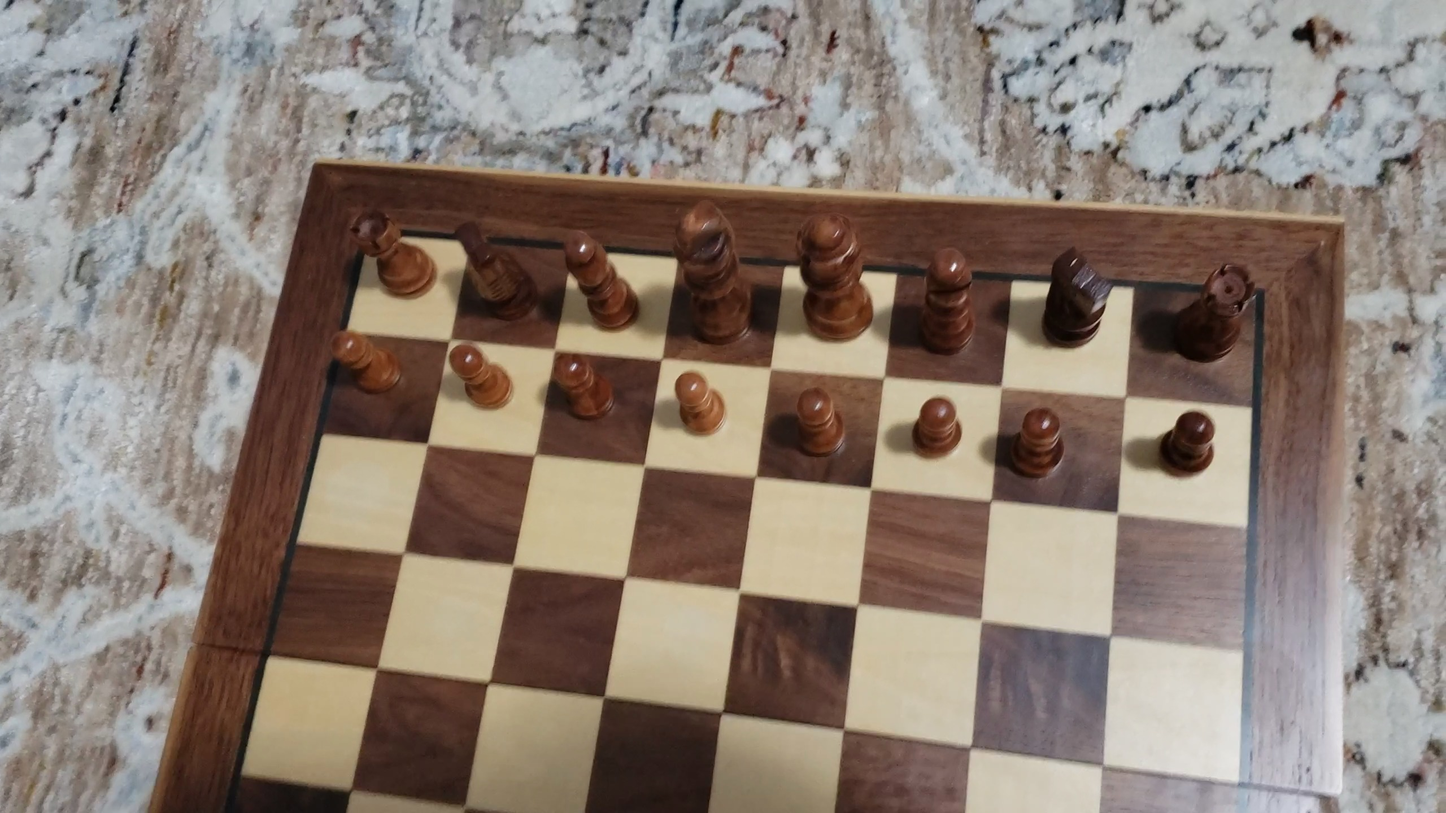black-bishop: (561, 225, 638, 333), (919, 243, 975, 356)
black-king: (673, 194, 756, 347)
black-knight: (454, 216, 539, 322), (1039, 243, 1112, 348)
black-pawn: (330, 327, 403, 396), (445, 339, 512, 410), (1008, 403, 1068, 482), (550, 352, 615, 422), (1158, 406, 1219, 479), (791, 383, 848, 460), (673, 369, 729, 439), (911, 394, 964, 462)
black-queen: (793, 208, 876, 342)
black-rook: (1169, 261, 1257, 365), (347, 207, 436, 299)
